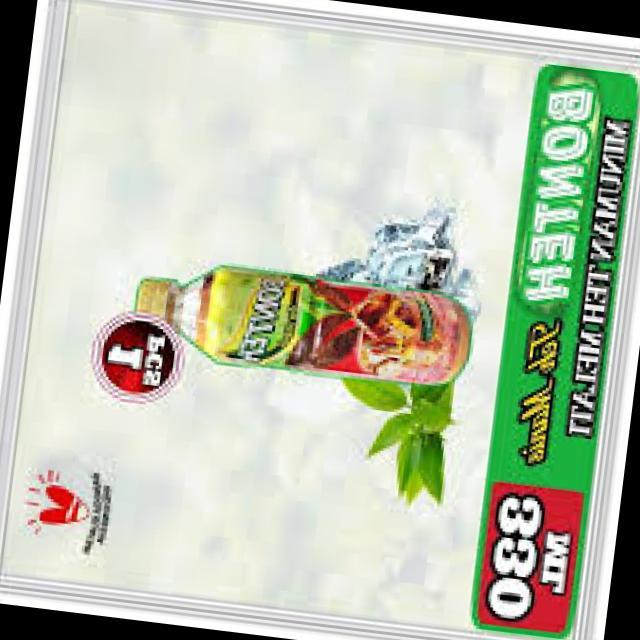good: (116, 252, 476, 410)
